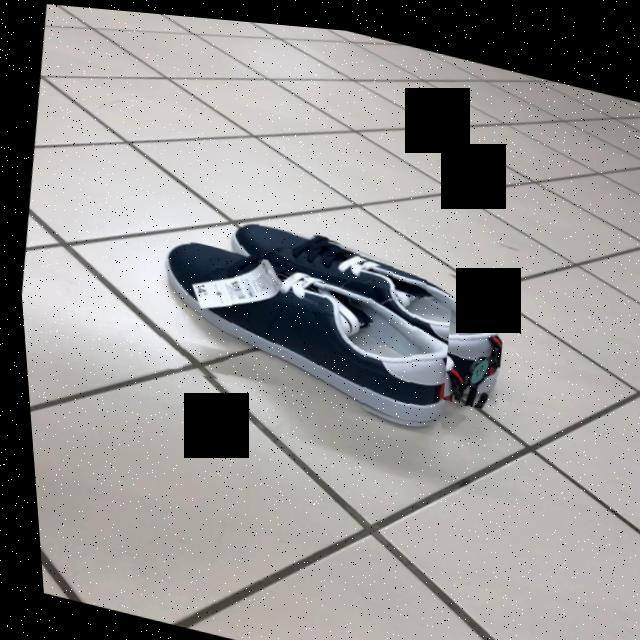shoe: (163, 240, 443, 416), (238, 223, 498, 400)
